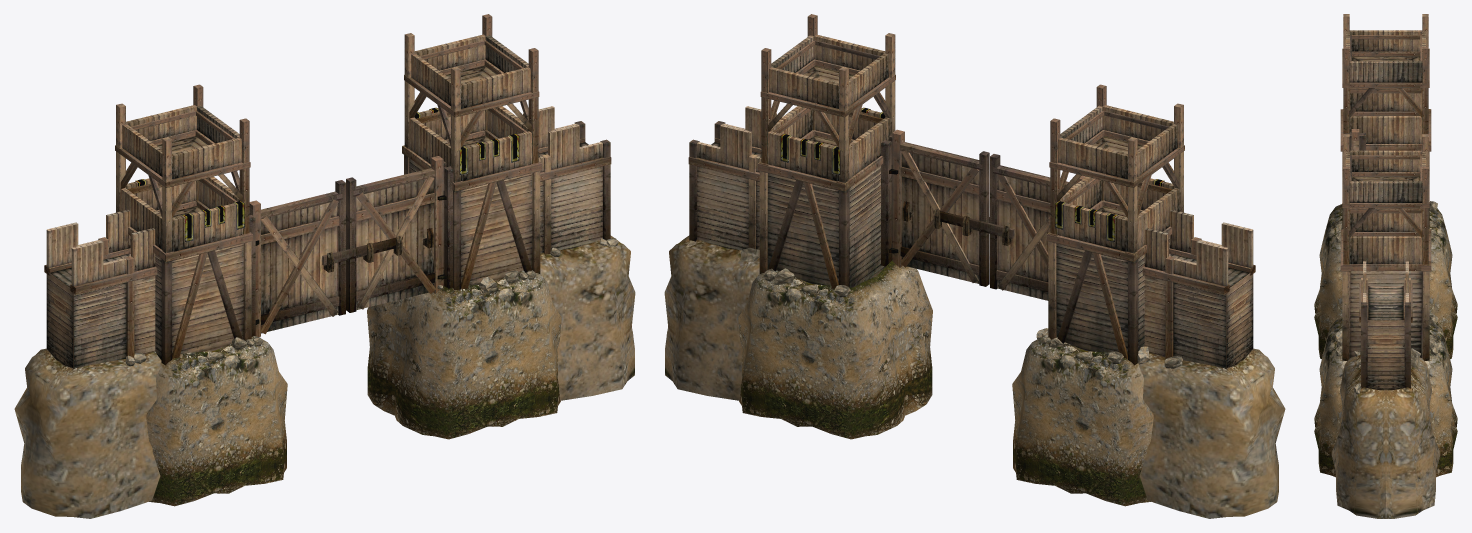
Rendered from s_romans_siege_wall_gate.glb.
The picture shows the model from 3 angles, left to right: view 1: azimuth 30°, elevation 25°; view 2: azimuth 150°, elevation 25°; view 3: azimuth 270°, elevation 25°; orthographic projection. The views are drawn at different scales.
Parts seen in each view (by area): view 1: s_romans_siege_wall_gate_part0, s_romans_siege_wall_gate_part1, s_romans_siege_wall_gate_part2; view 2: s_romans_siege_wall_gate_part0, s_romans_siege_wall_gate_part1, s_romans_siege_wall_gate_part2; view 3: s_romans_siege_wall_gate_part0, s_romans_siege_wall_gate_part1.
Boxes of the visible parts, box(x1,y1,x2,y2) form: s_romans_siege_wall_gate_part0: box(44, 14, 611, 369); s_romans_siege_wall_gate_part1: box(14, 235, 635, 518); s_romans_siege_wall_gate_part2: box(135, 107, 519, 242); s_romans_siege_wall_gate_part0: box(688, 14, 1255, 369); s_romans_siege_wall_gate_part1: box(664, 235, 1285, 518); s_romans_siege_wall_gate_part2: box(780, 107, 1164, 242); s_romans_siege_wall_gate_part0: box(1340, 14, 1431, 390); s_romans_siege_wall_gate_part1: box(1314, 201, 1457, 518).
Size of the model in its own units: 10.25 by 5.71 by 2.45.
3 materials, 3 textured.
